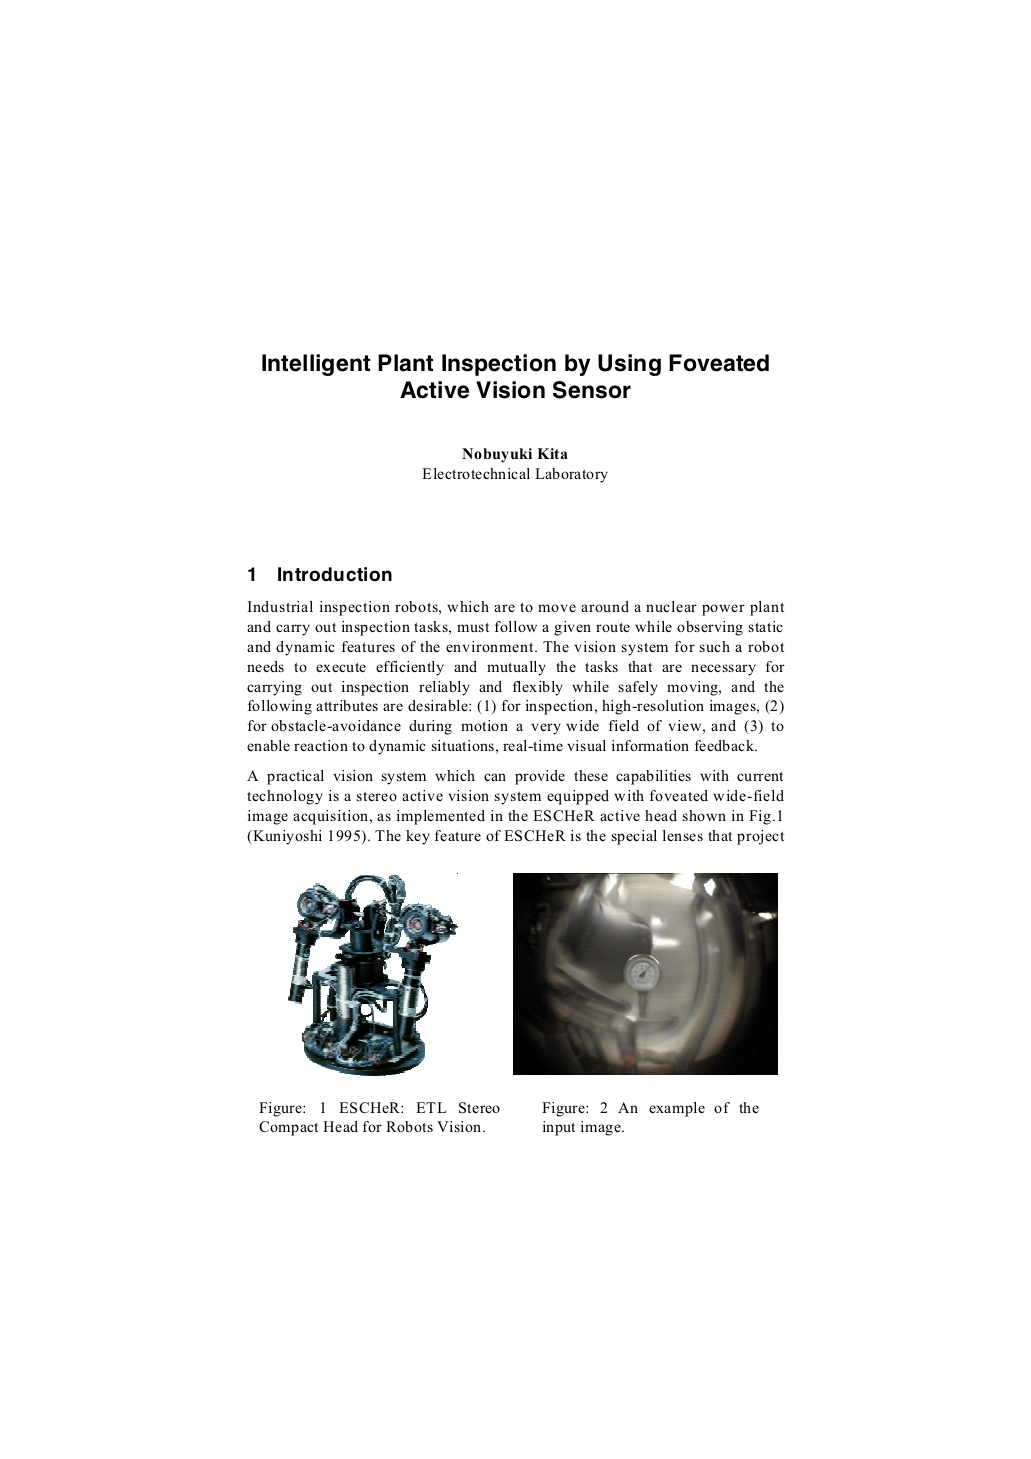figure: (513, 871, 777, 1075), (288, 872, 457, 1076)
